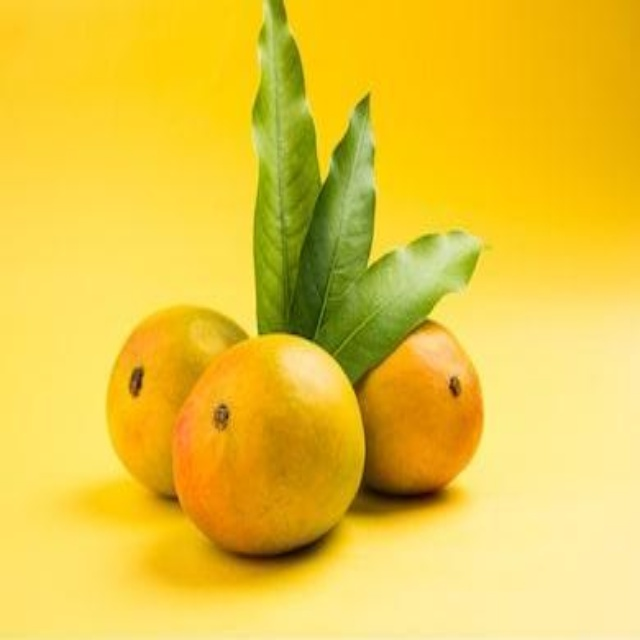mango: (170, 333, 368, 554), (104, 293, 260, 497), (346, 312, 485, 497)
